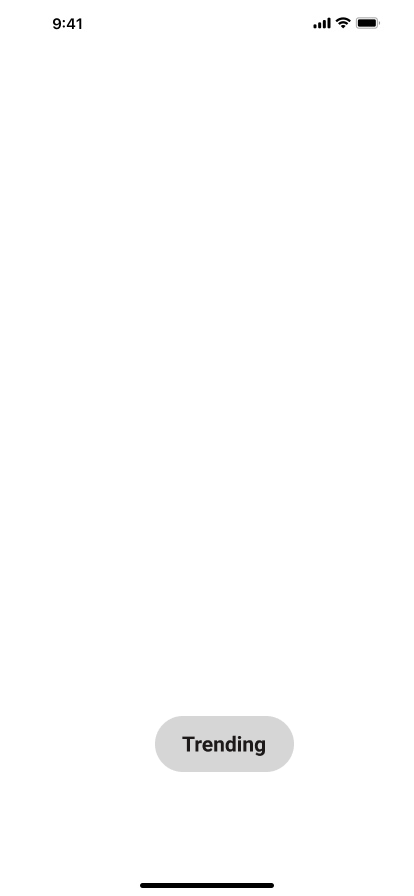Buttons: (155, 716, 302, 772)
Home Indicator: (0, 862, 414, 896)
Status Bar: (0, 0, 414, 44)
